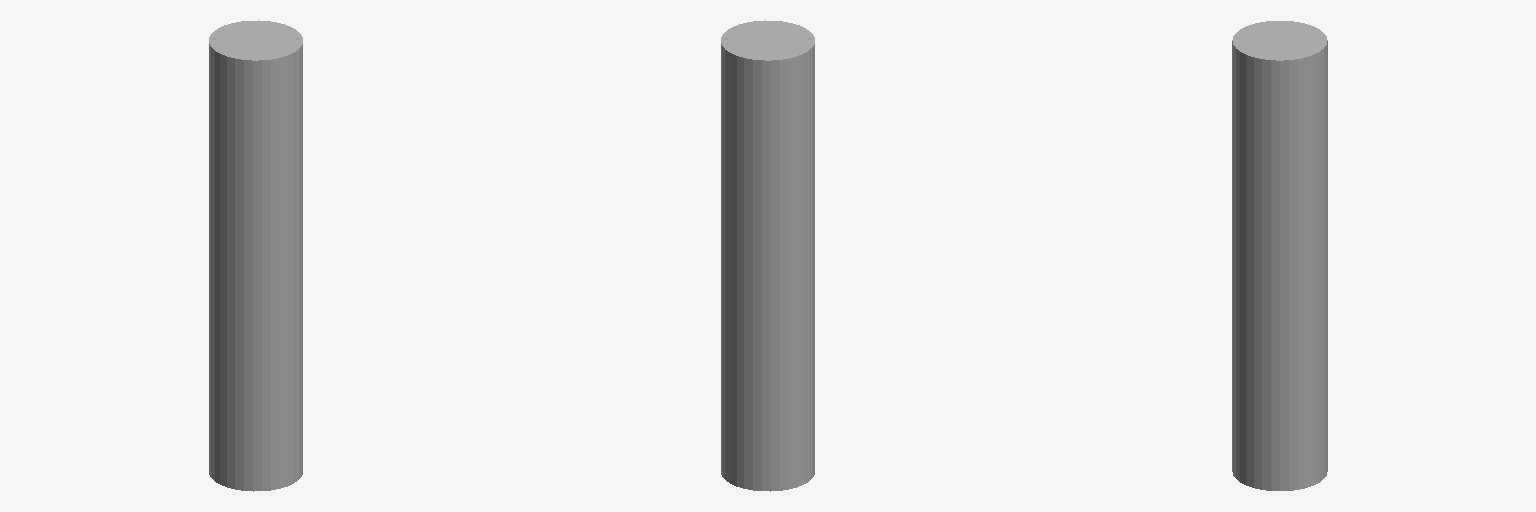
The robot description file, URDF, robot "cylinder1":
<?xml version="1.0"?>
<robot name="cylinder1">
  <material name="gray">
    <color rgba="0.75 0.75 0.75 0.5"/>
  </material>

  <link name="base_link">
  <visual>
    <geometry>
      <cylinder length="1.5" radius= "0.15"/>
    </geometry>
    <material name="gray"/>
  </visual>
    
  <collision>
    <geometry>
      <cylinder length="1.5" radius= "0.15"/>
    </geometry>
    <material name="gray"/>
  </collision>

  </link>
</robot>

--- What the picture shows (computed from the rendered views, not written in the file) ---
3 views of the same robot in one strip: view 1: azimuth 30°, elevation 25°; view 2: azimuth 150°, elevation 25°; view 3: azimuth 270°, elevation 25° (orthographic).
Robot: cylinder1 — 1 links, 0 joints (none); root link base_link; default pose: every joint at zero.
Links seen in each view (by area): view 1: base_link; view 2: base_link; view 3: base_link.
Boxes of the visible links, x1=… form: base_link: x1=209, y1=20, x2=302, y2=491; base_link: x1=721, y1=20, x2=814, y2=491; base_link: x1=1232, y1=21, x2=1327, y2=490.
Bounding box of the posed robot: 0.3 × 0.3 × 1.5 m (x, y, z).
Geometry: primitives only (box / cylinder / sphere), no mesh files.